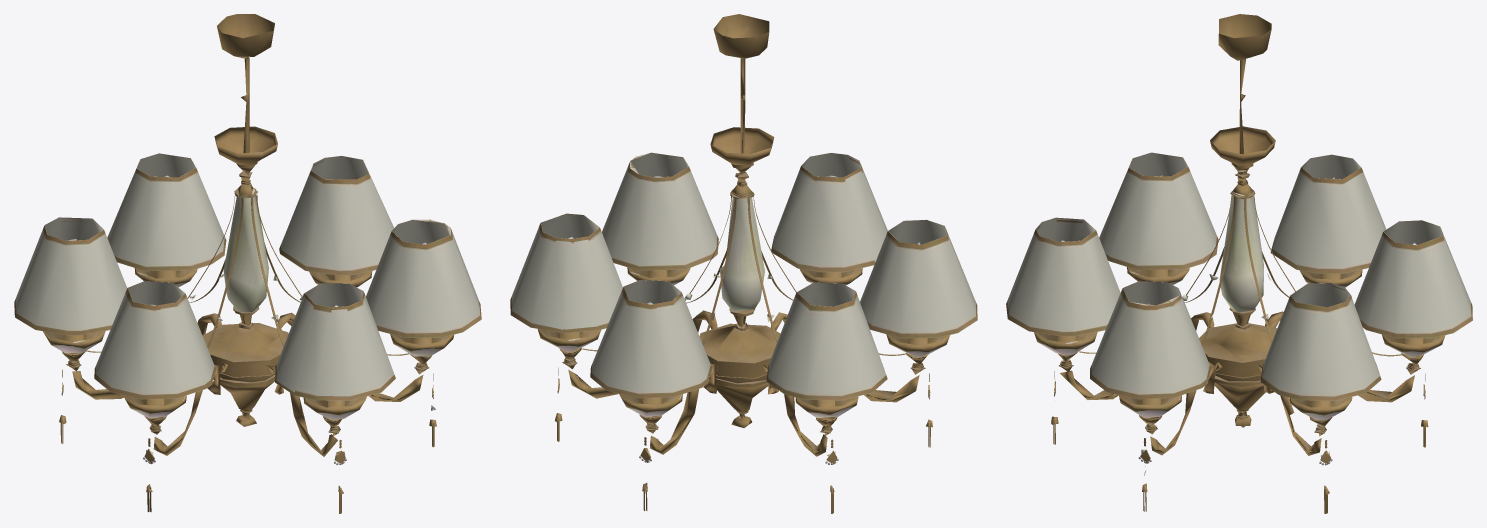
File: Chandelier_01.glb
3 views of the same model, side by side, from view 1: azimuth 30°, elevation 25°; view 2: azimuth 150°, elevation 25°; view 3: azimuth 270°, elevation 25° (orthographic).
Visible parts, largest first — view 1: Chandelier_01; view 2: Chandelier_01; view 3: Chandelier_01.
Part boxes in pixels (x1=…): Chandelier_01: x1=14, y1=14, x2=481, y2=513; Chandelier_01: x1=510, y1=14, x2=977, y2=513; Chandelier_01: x1=1006, y1=14, x2=1472, y2=513.
Bounding box in the file's own units: 0.7408 × 0.7983 × 0.8084.
2 materials, 1 textured.
